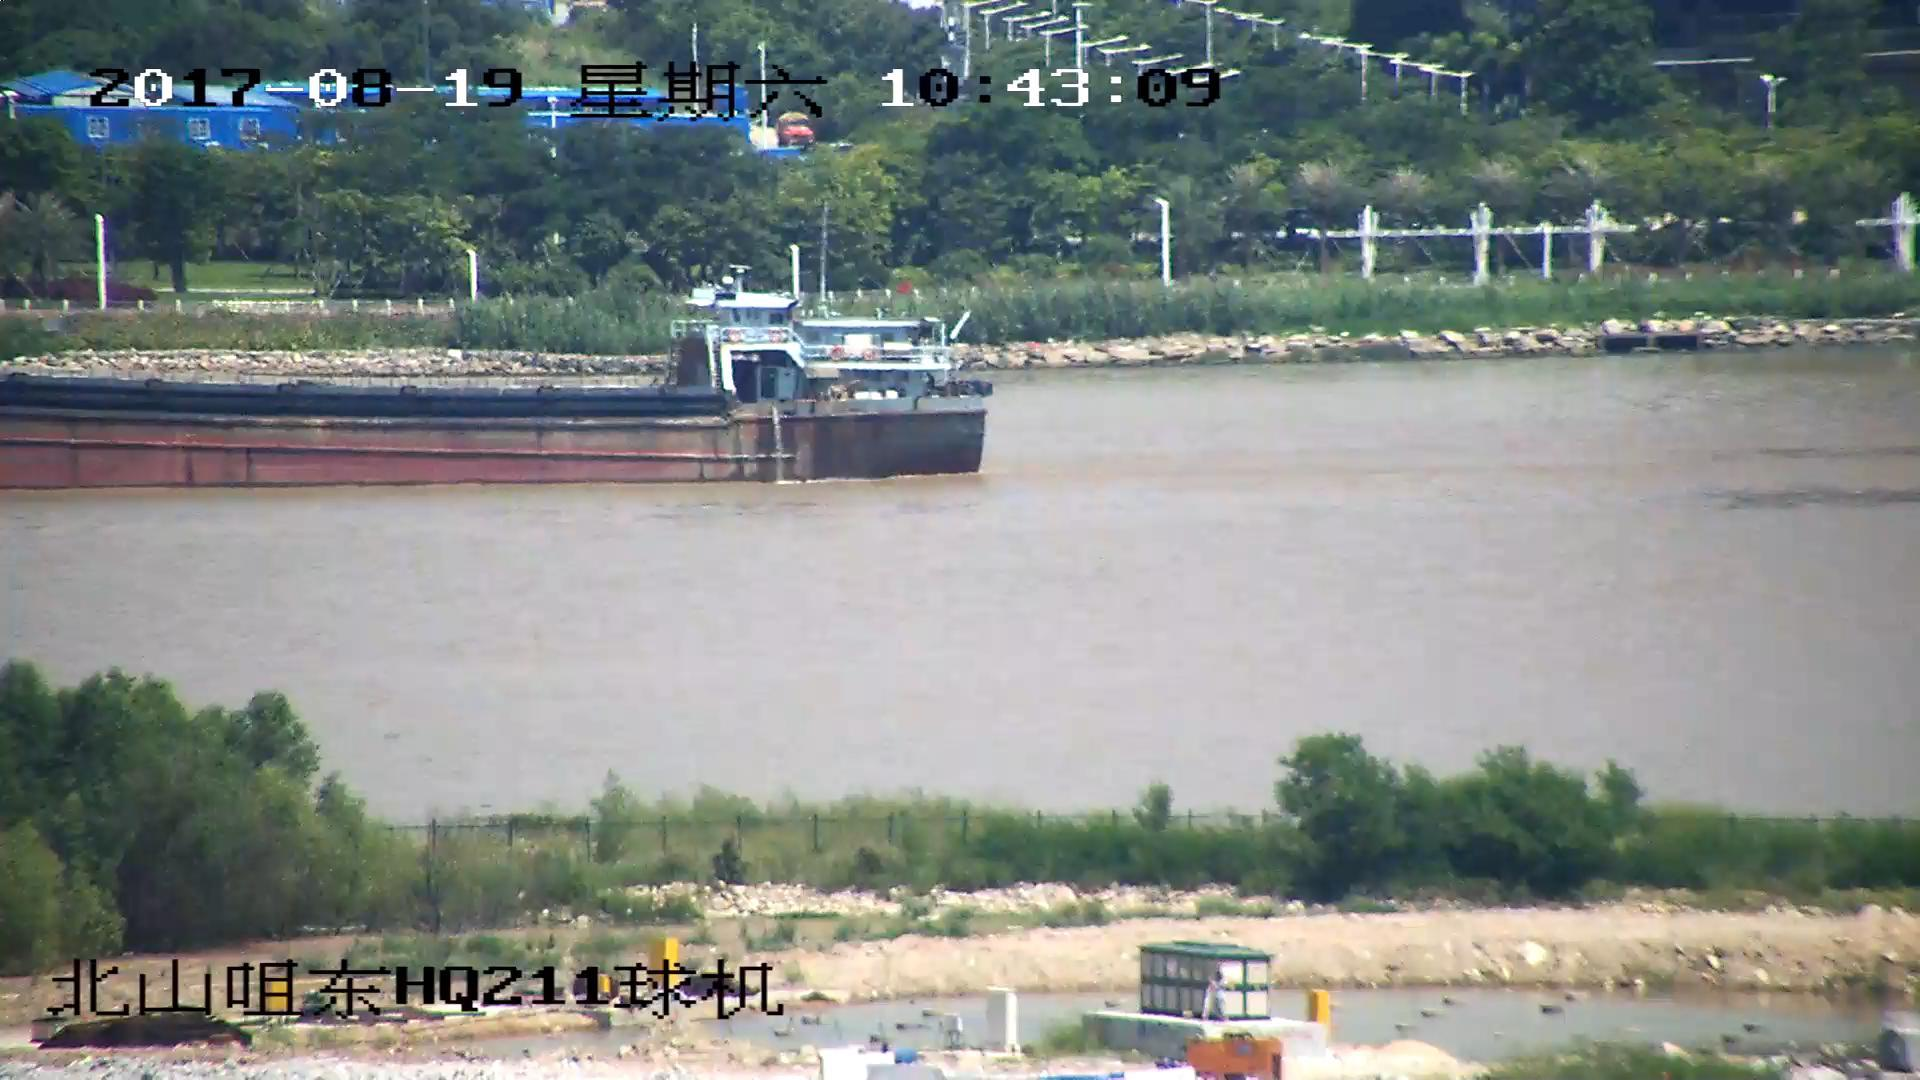Ship: (3, 270, 988, 487)
